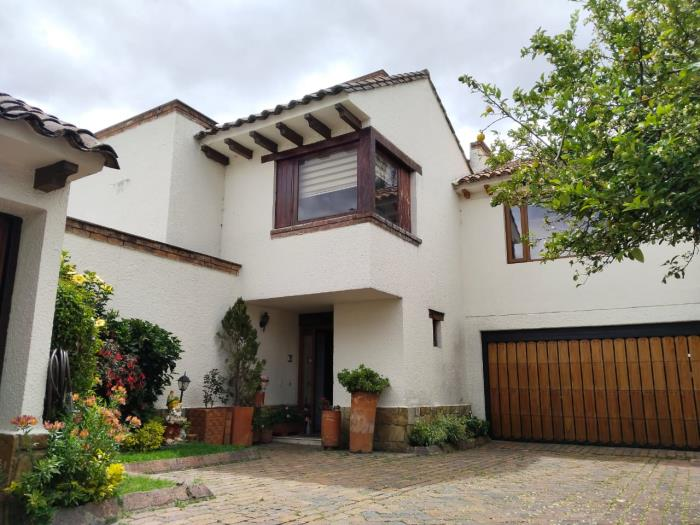House: (1, 42, 693, 457)
